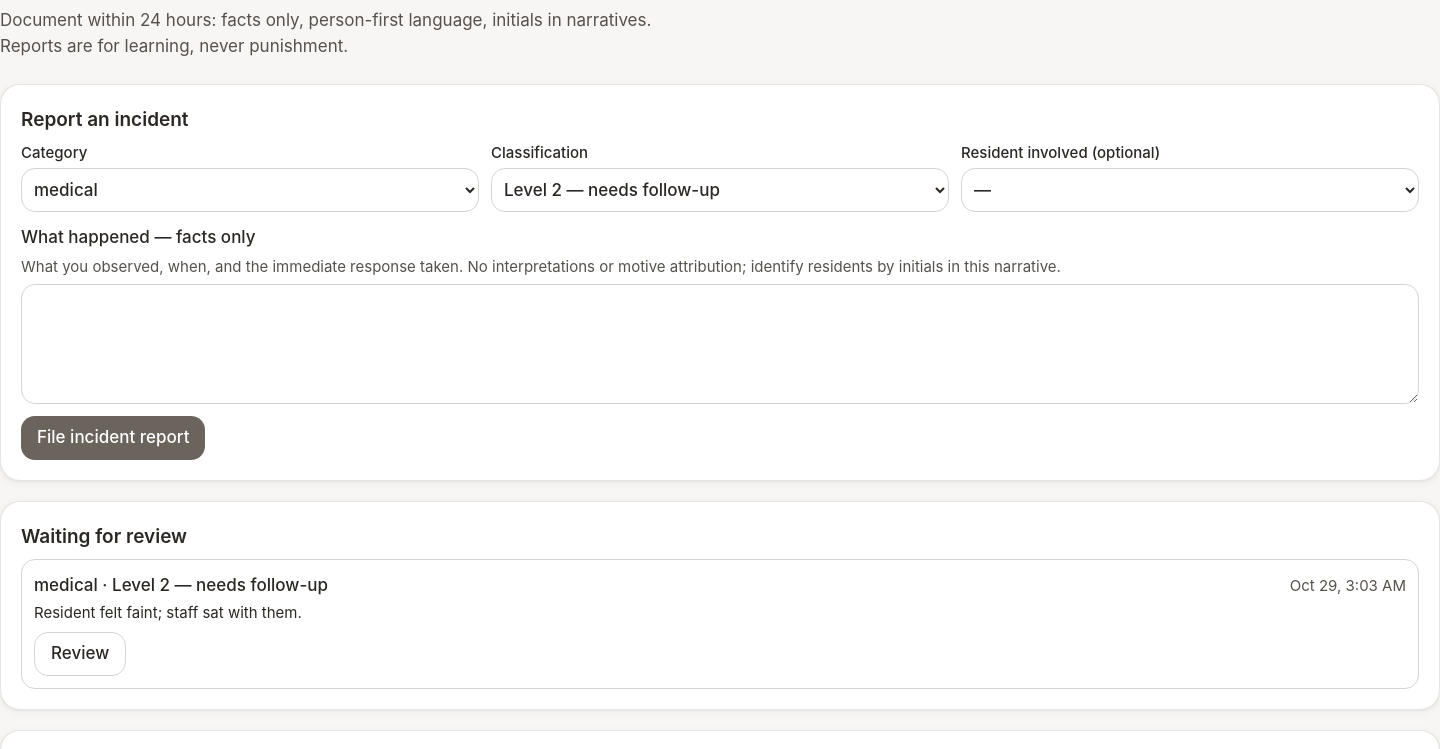
Test case: IncidentsPage review › records the review through the RPC with the optional follow-up
Click the button "Review" at (80, 654), box [34,632,126,676]
(page scrolled)
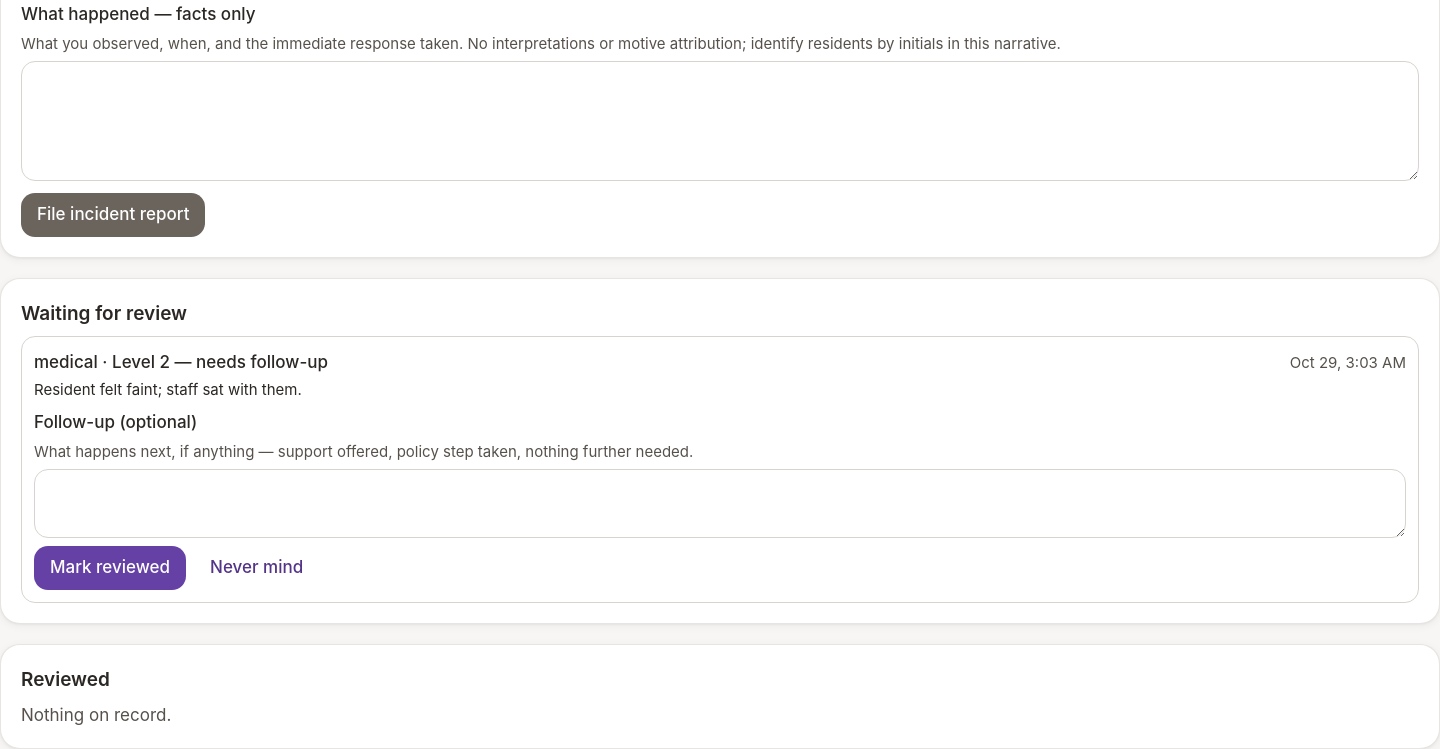
Type "Checked in the next morning." into the text box labelled "Follow-up (optional)" at (720, 503), box [34,469,1406,538]
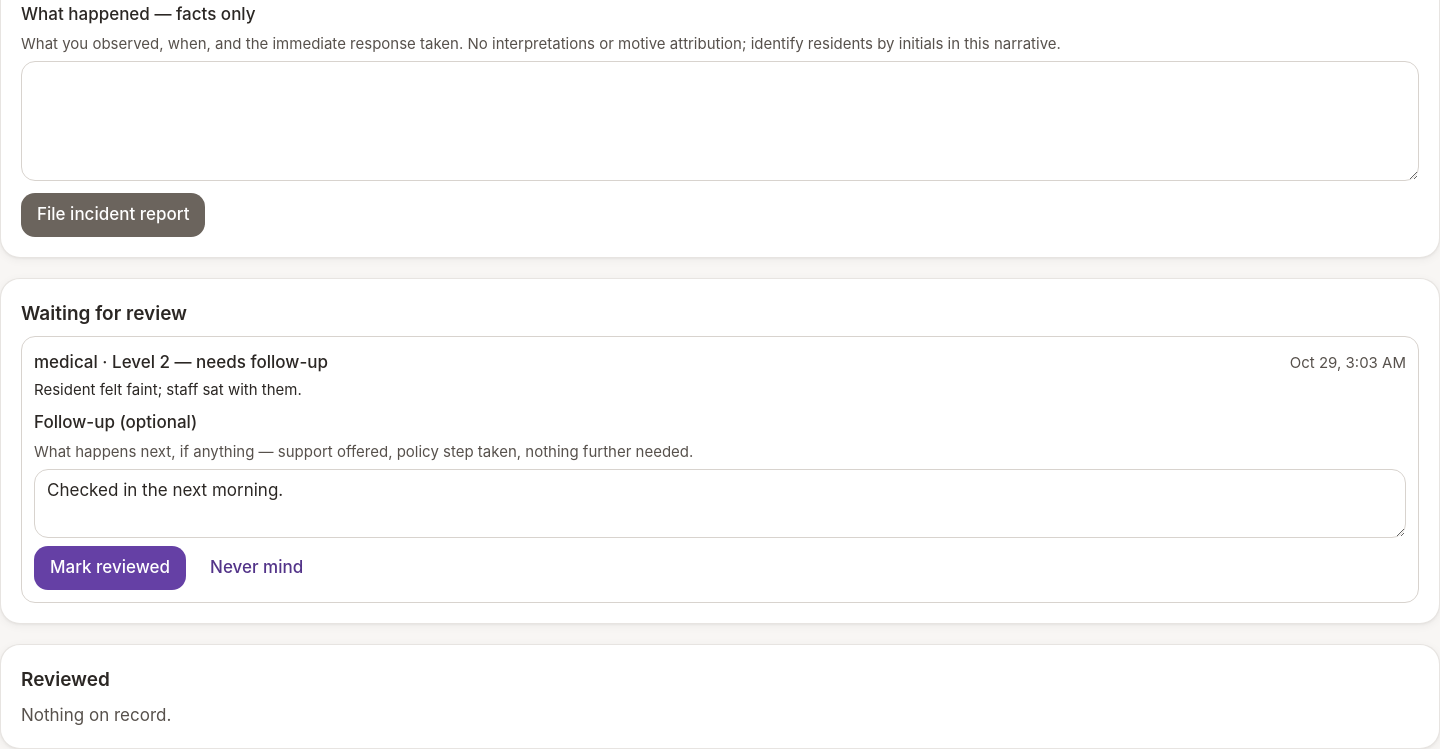
Click the button "Mark reviewed" at (110, 568), box [34,546,186,590]
(page scrolled)
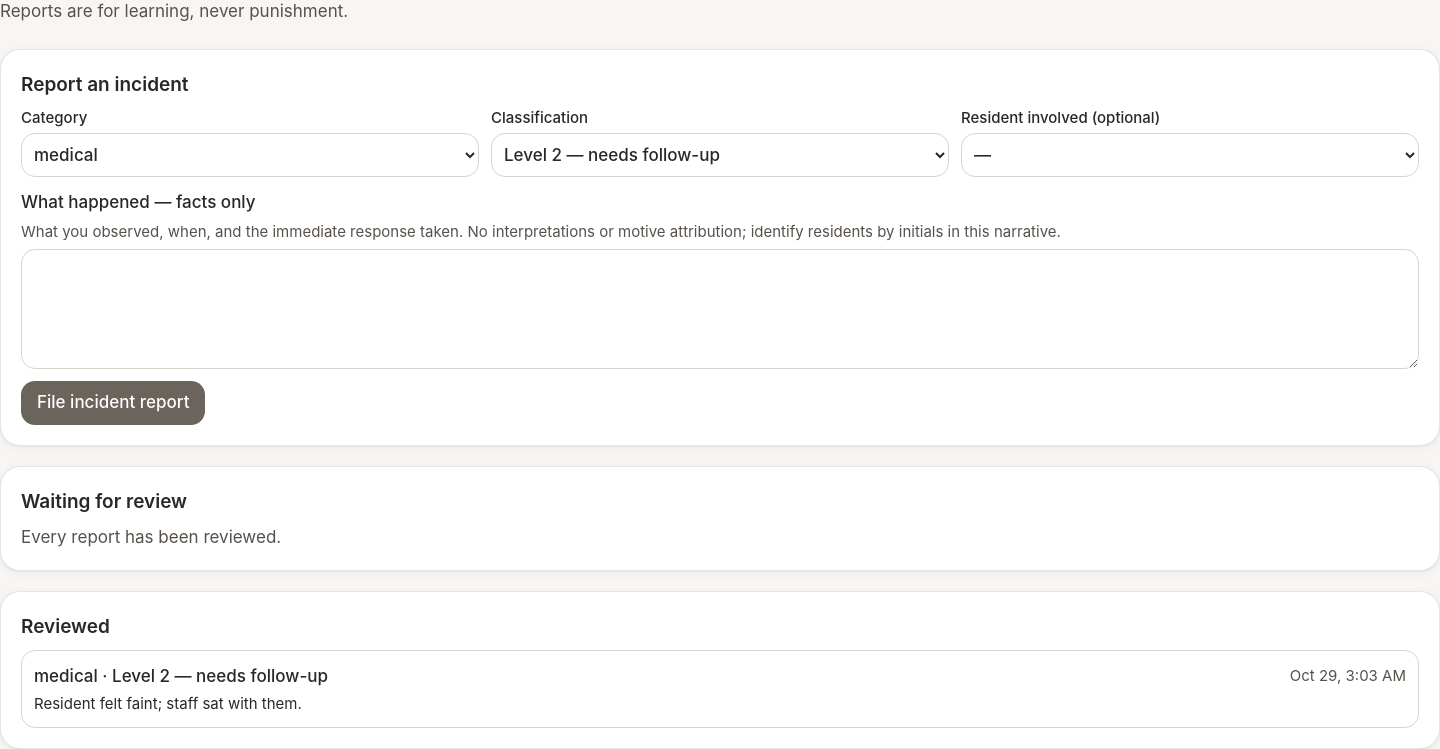
Result: the text "Every report has been reviewed." is shown at [21,527,281,547]
